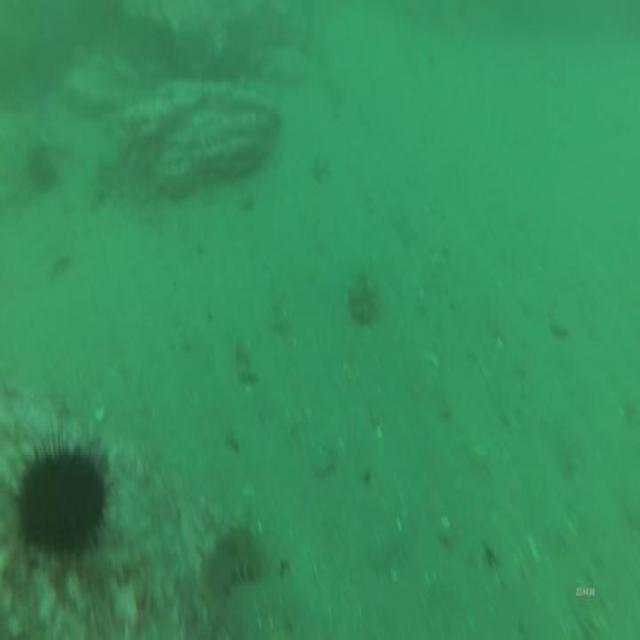echinus: (7, 427, 112, 567), (23, 139, 59, 199)
holothurian: (194, 518, 266, 623)
